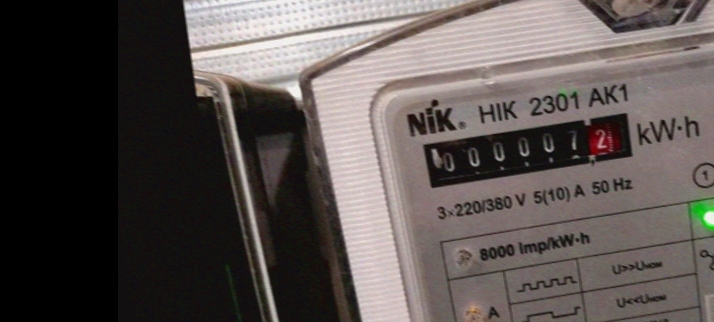0: (441, 147, 458, 173), (516, 134, 534, 158), (492, 138, 508, 163), (541, 129, 557, 154), (466, 144, 482, 168)
2: (594, 126, 610, 150)
7: (567, 126, 582, 151)
screen: (412, 100, 646, 198)
